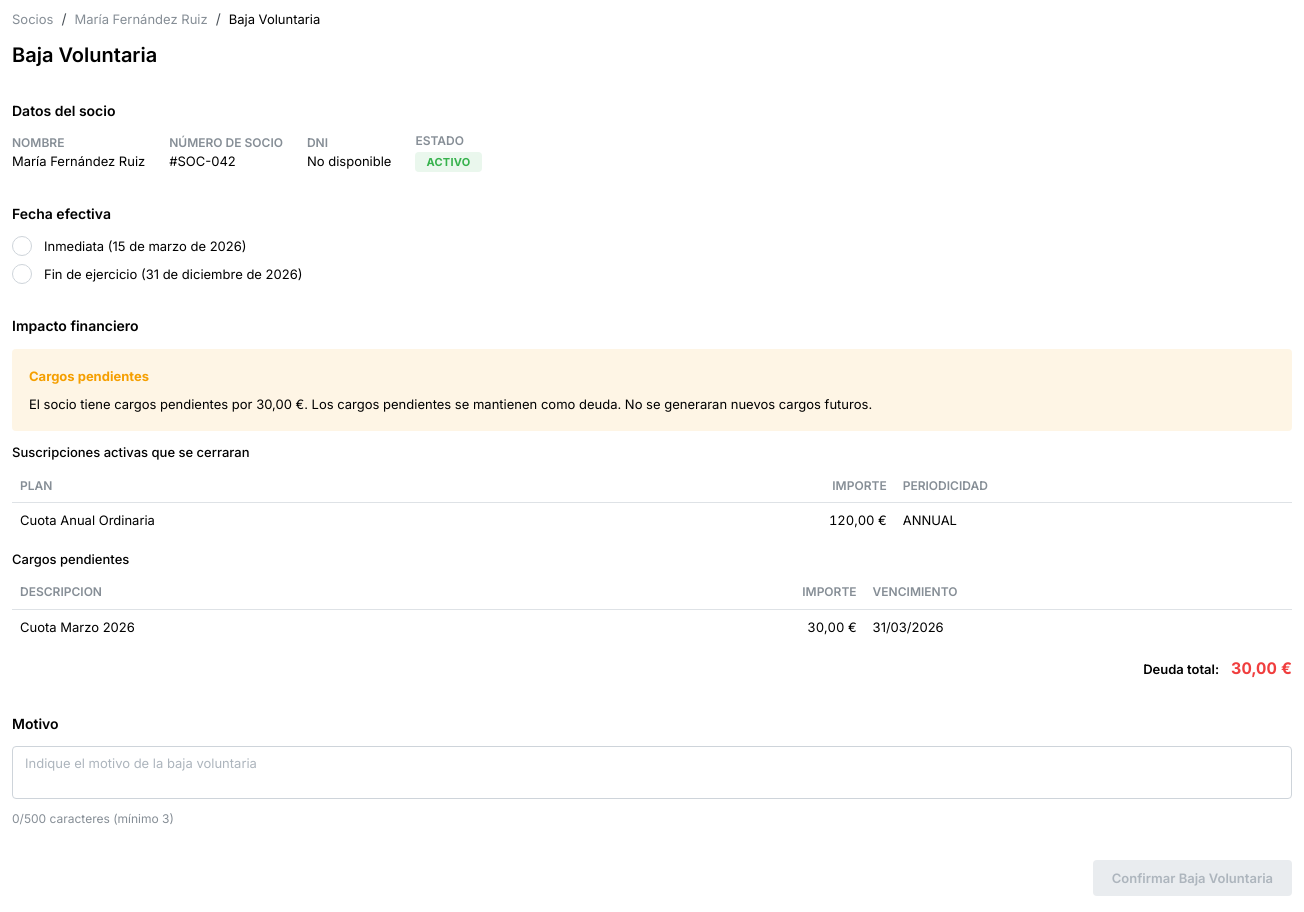
Test: VoluntaryLeavePage › interacciones del formulario › deberia habilitar el boton al seleccionar fecha y escribir motivo valido
The image size is (1304, 912).
Check: the button "Confirmar Baja Voluntaria" is shown, box [1112,870,1273,886]
Click the radio button labelled "Inmediata (15 de marzo de 2026)". click: (22, 246)
box: [12,236,32,256]
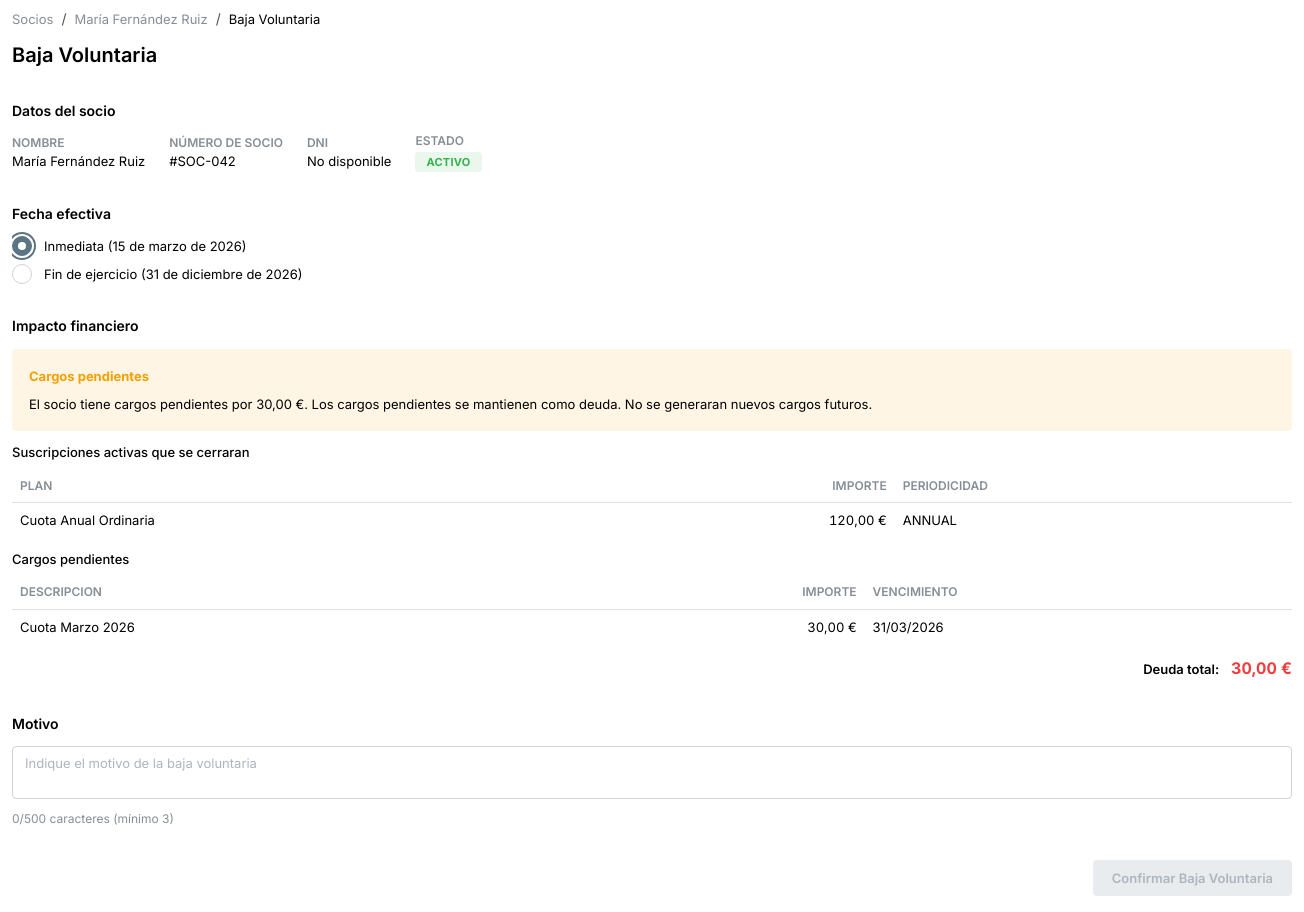
Type "Motivo de prueba para la baja voluntaria del socio" into the text box with placeholder "Indique el motivo de la baja voluntaria". click: (652, 773)
box: [12,746,1292,799]
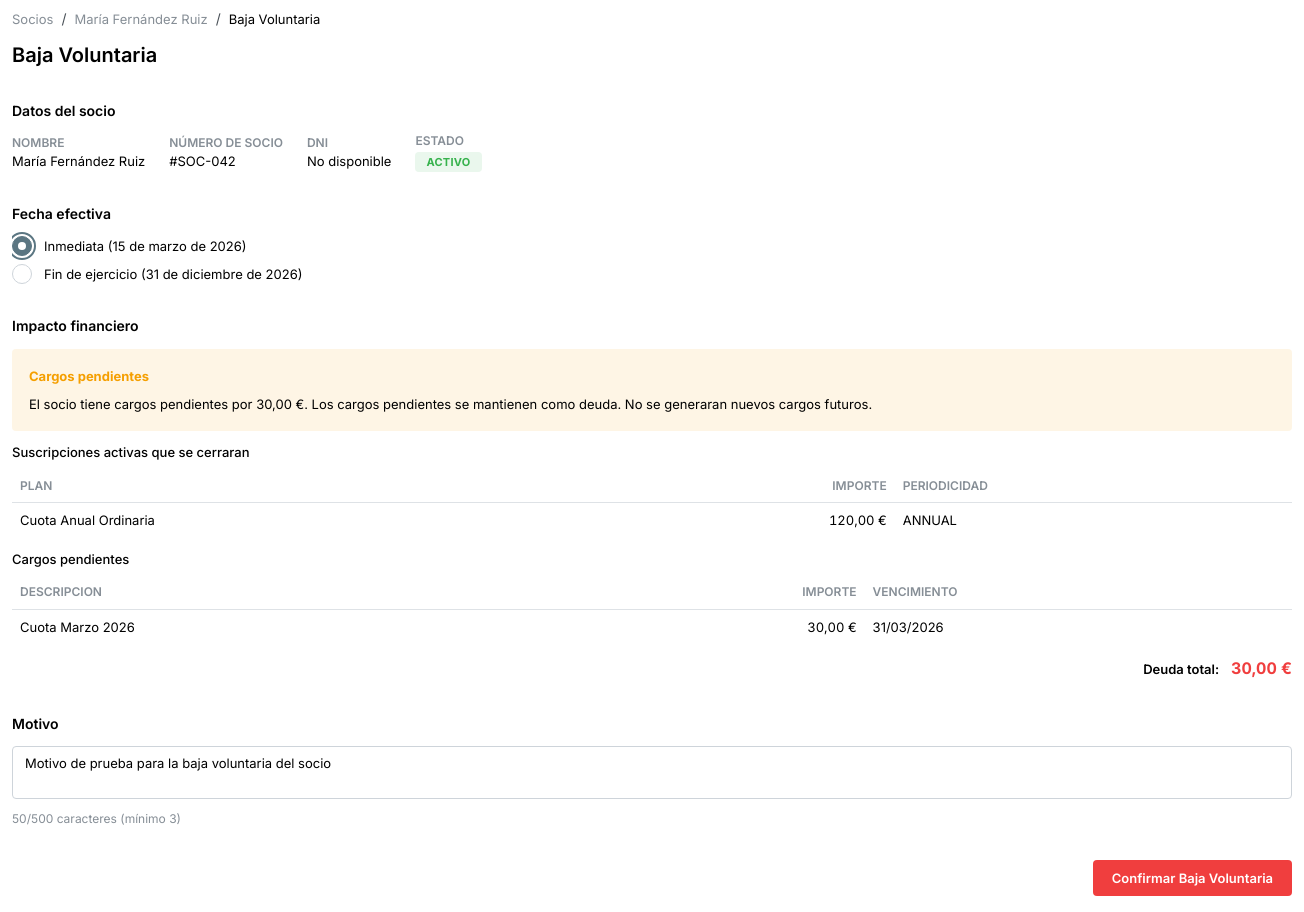
Check: the button "Confirmar Baja Voluntaria" is enabled, box [1093,860,1292,896]
